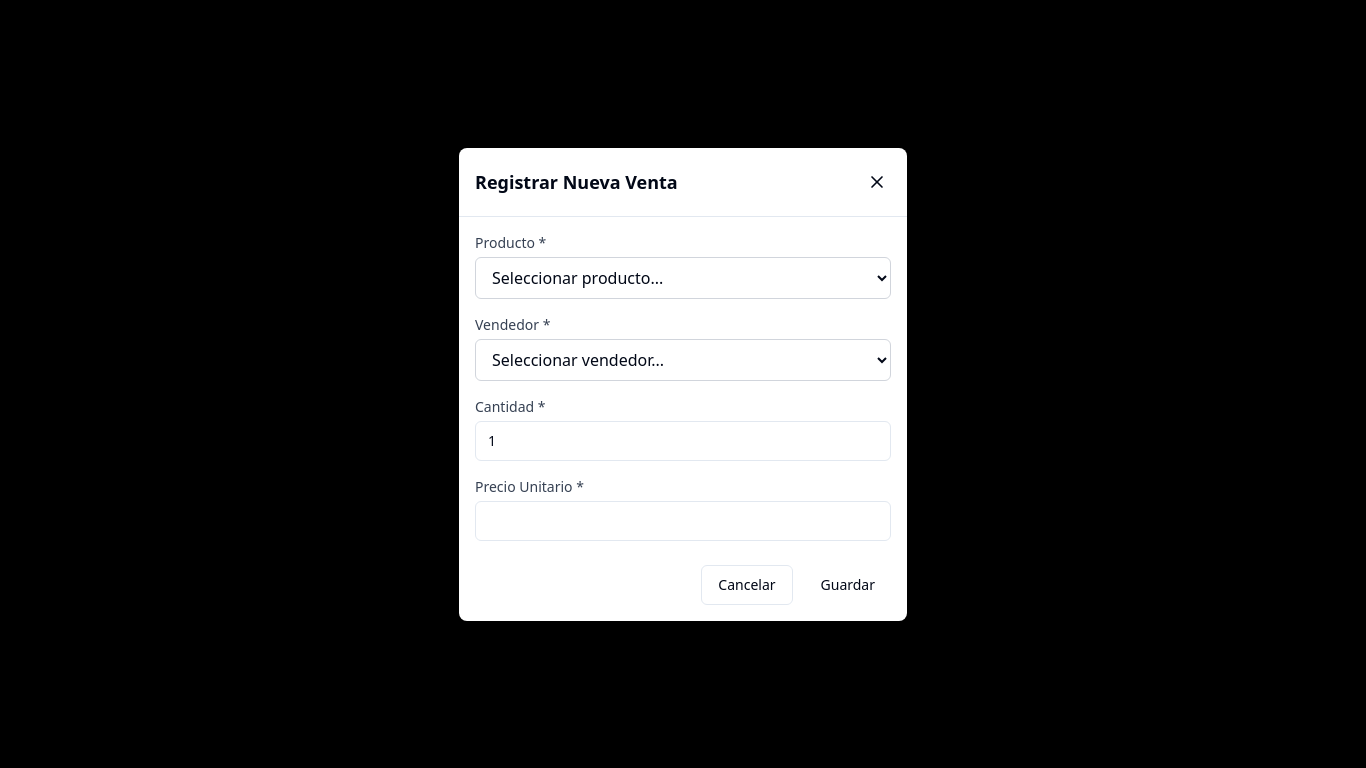
Scenario: ModalNuevaVenta › debe calcular el total correctamente
The image size is (1366, 768).
Replace the text in the number field labelled "Cantidad *" with "5": x=683, y=440 [475,420,891,460]
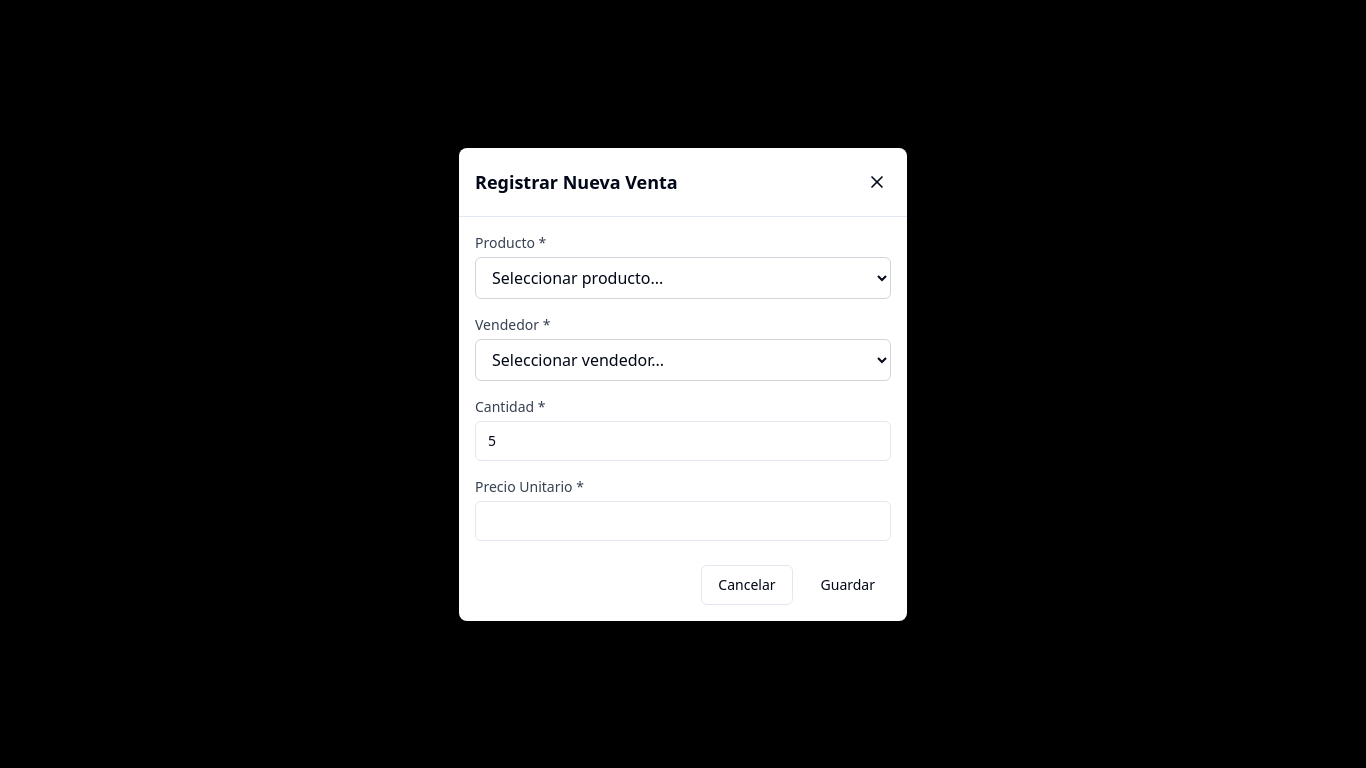
In the number field labelled "Precio Unitario *": x=683, y=520 [475,500,891,540], type "100"
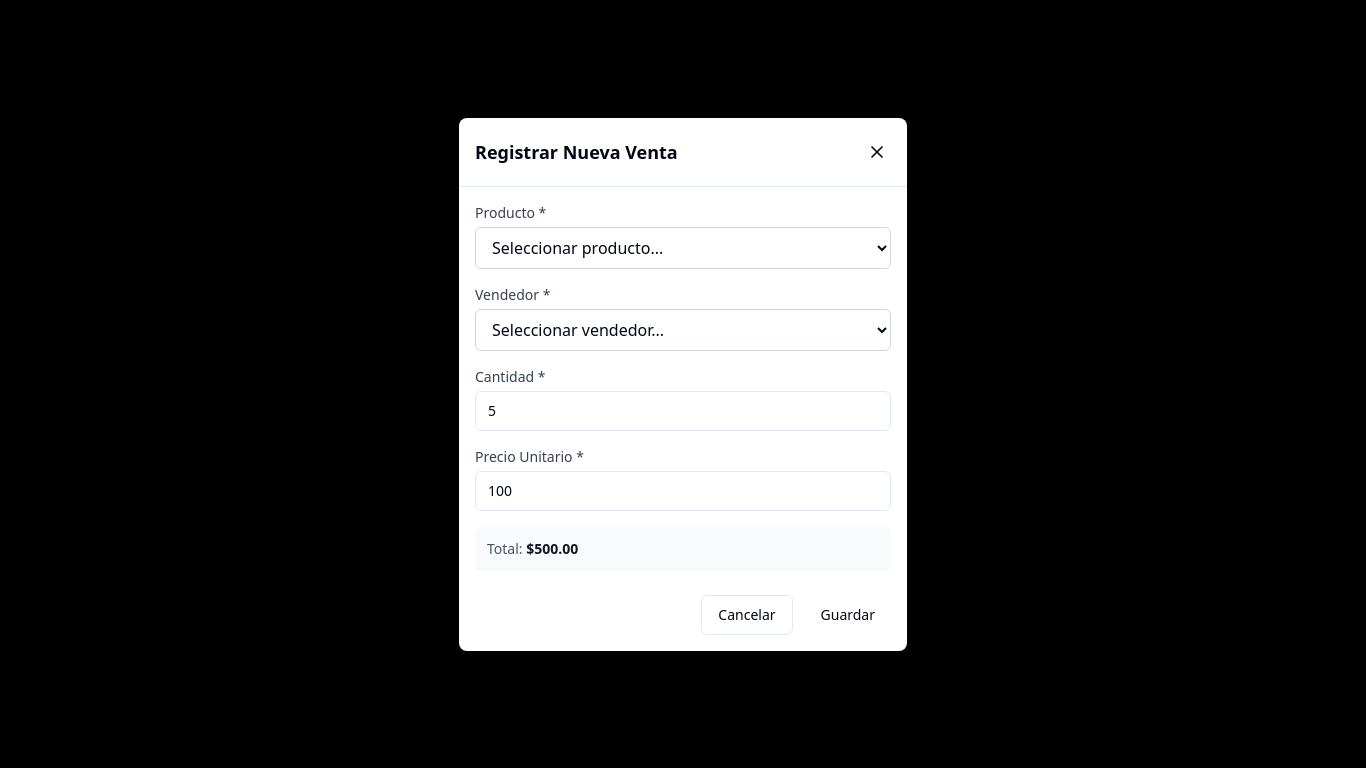
expect the text "Total: $500.00" is shown: met, box [487,538,578,558]
expect the text "$500.00" is shown: met, box [526,538,578,558]
